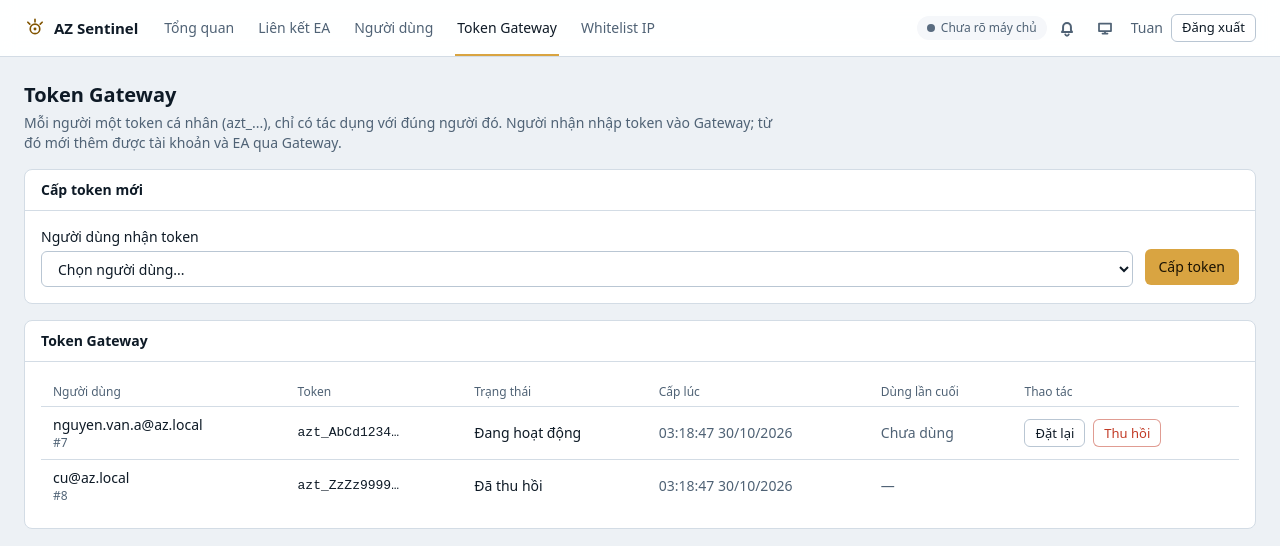
Scenario: trang Token Gateway (admin) › quản trị viên thấy mục menu Token Gateway; thao tác thất bại thì báo lỗi
Expected: the link "Token Gateway" is shown, [455,0,559,56]
Click the button "Thu hồi" at (1127, 433), box [1093,419,1161,447]
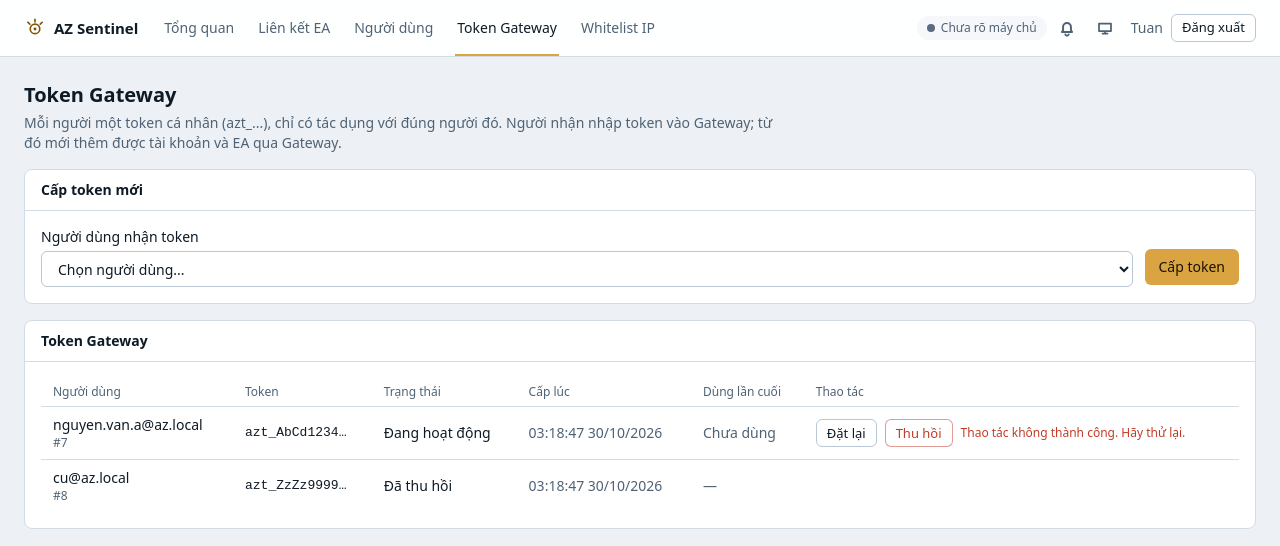
Expected: the text "Thao tác không thành công. Hãy thử lại." is shown, [961,425,1185,441]
